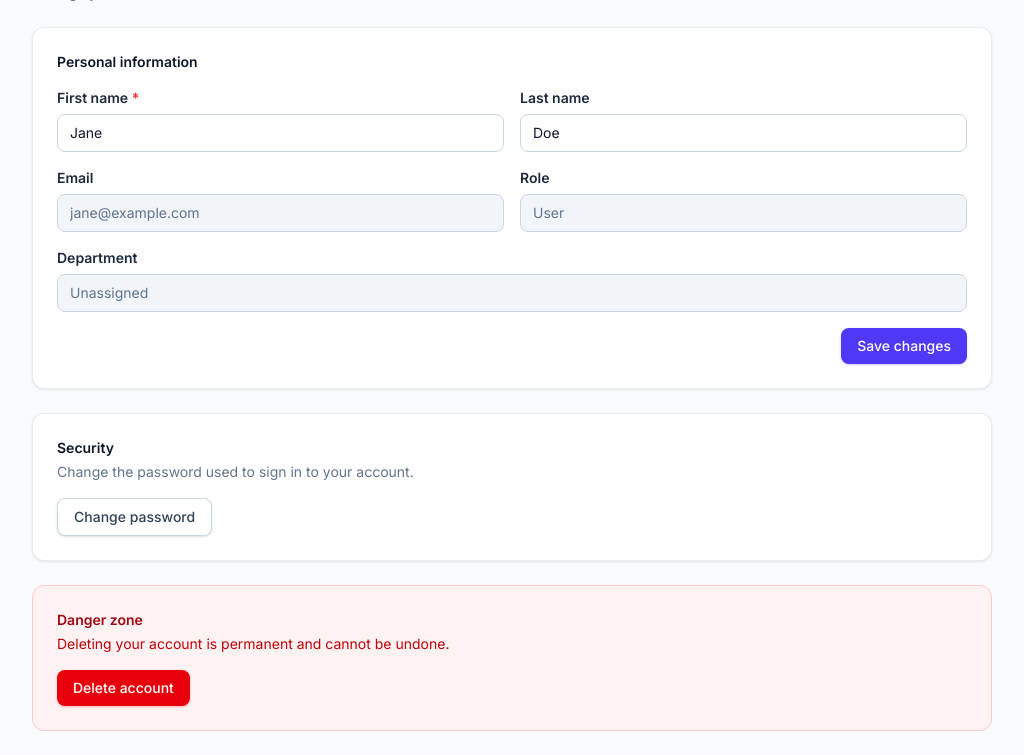
Scenario: ProfilePage › shows a toast and closes the dialog when account deletion fails
(page scrolled)
Check: the field labelled "First name *" is shown, box x1=57 y1=114 x2=504 y2=152
Click the button "Delete account" at (123, 688), box x1=57 y1=670 x2=190 y2=706
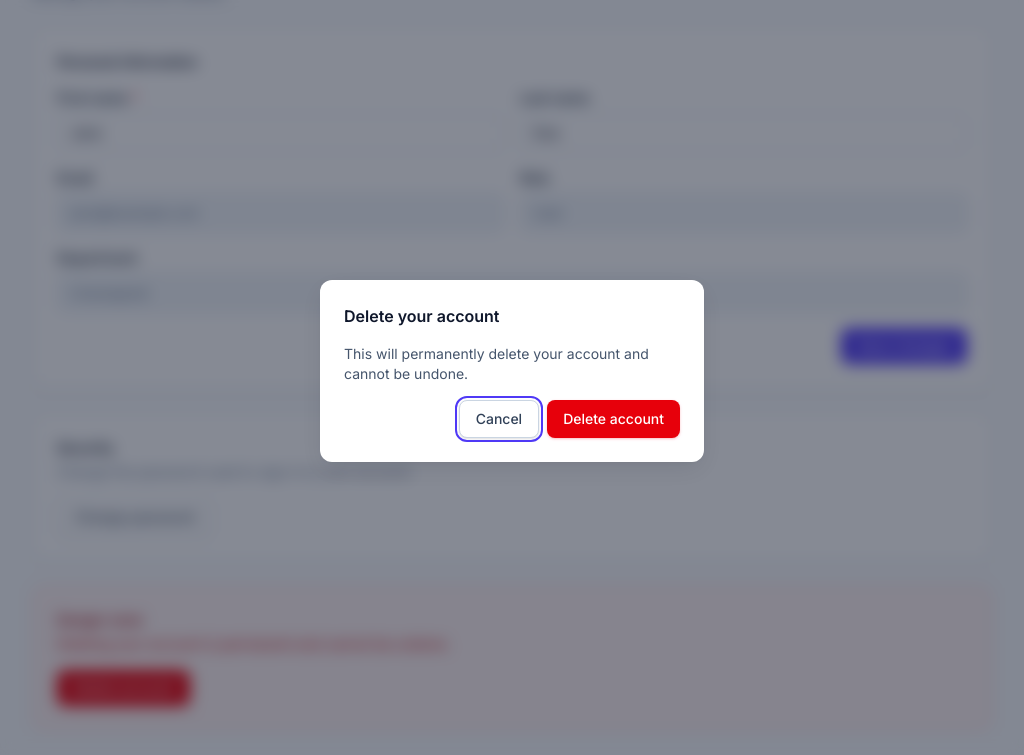
Click the button "Delete account" at (614, 419), box x1=547 y1=400 x2=680 y2=438
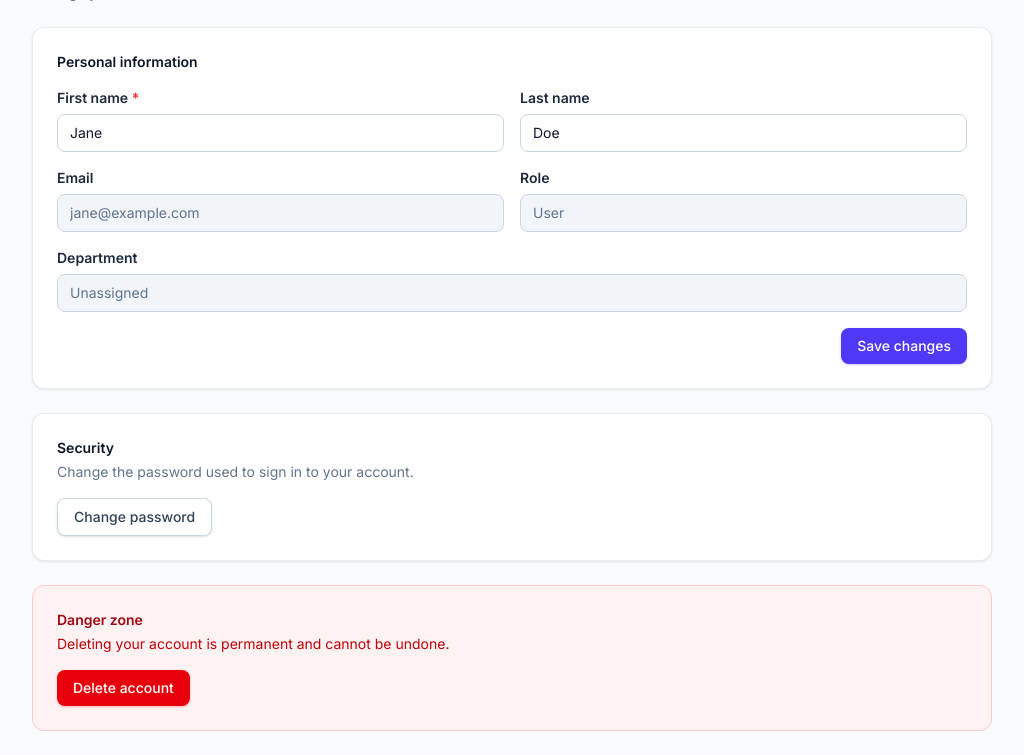
Check: the dialog is gone
